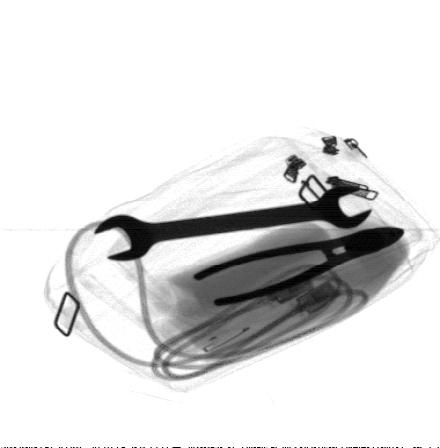Pliers: (193, 227, 404, 307)
Wrench: (93, 187, 374, 261)
